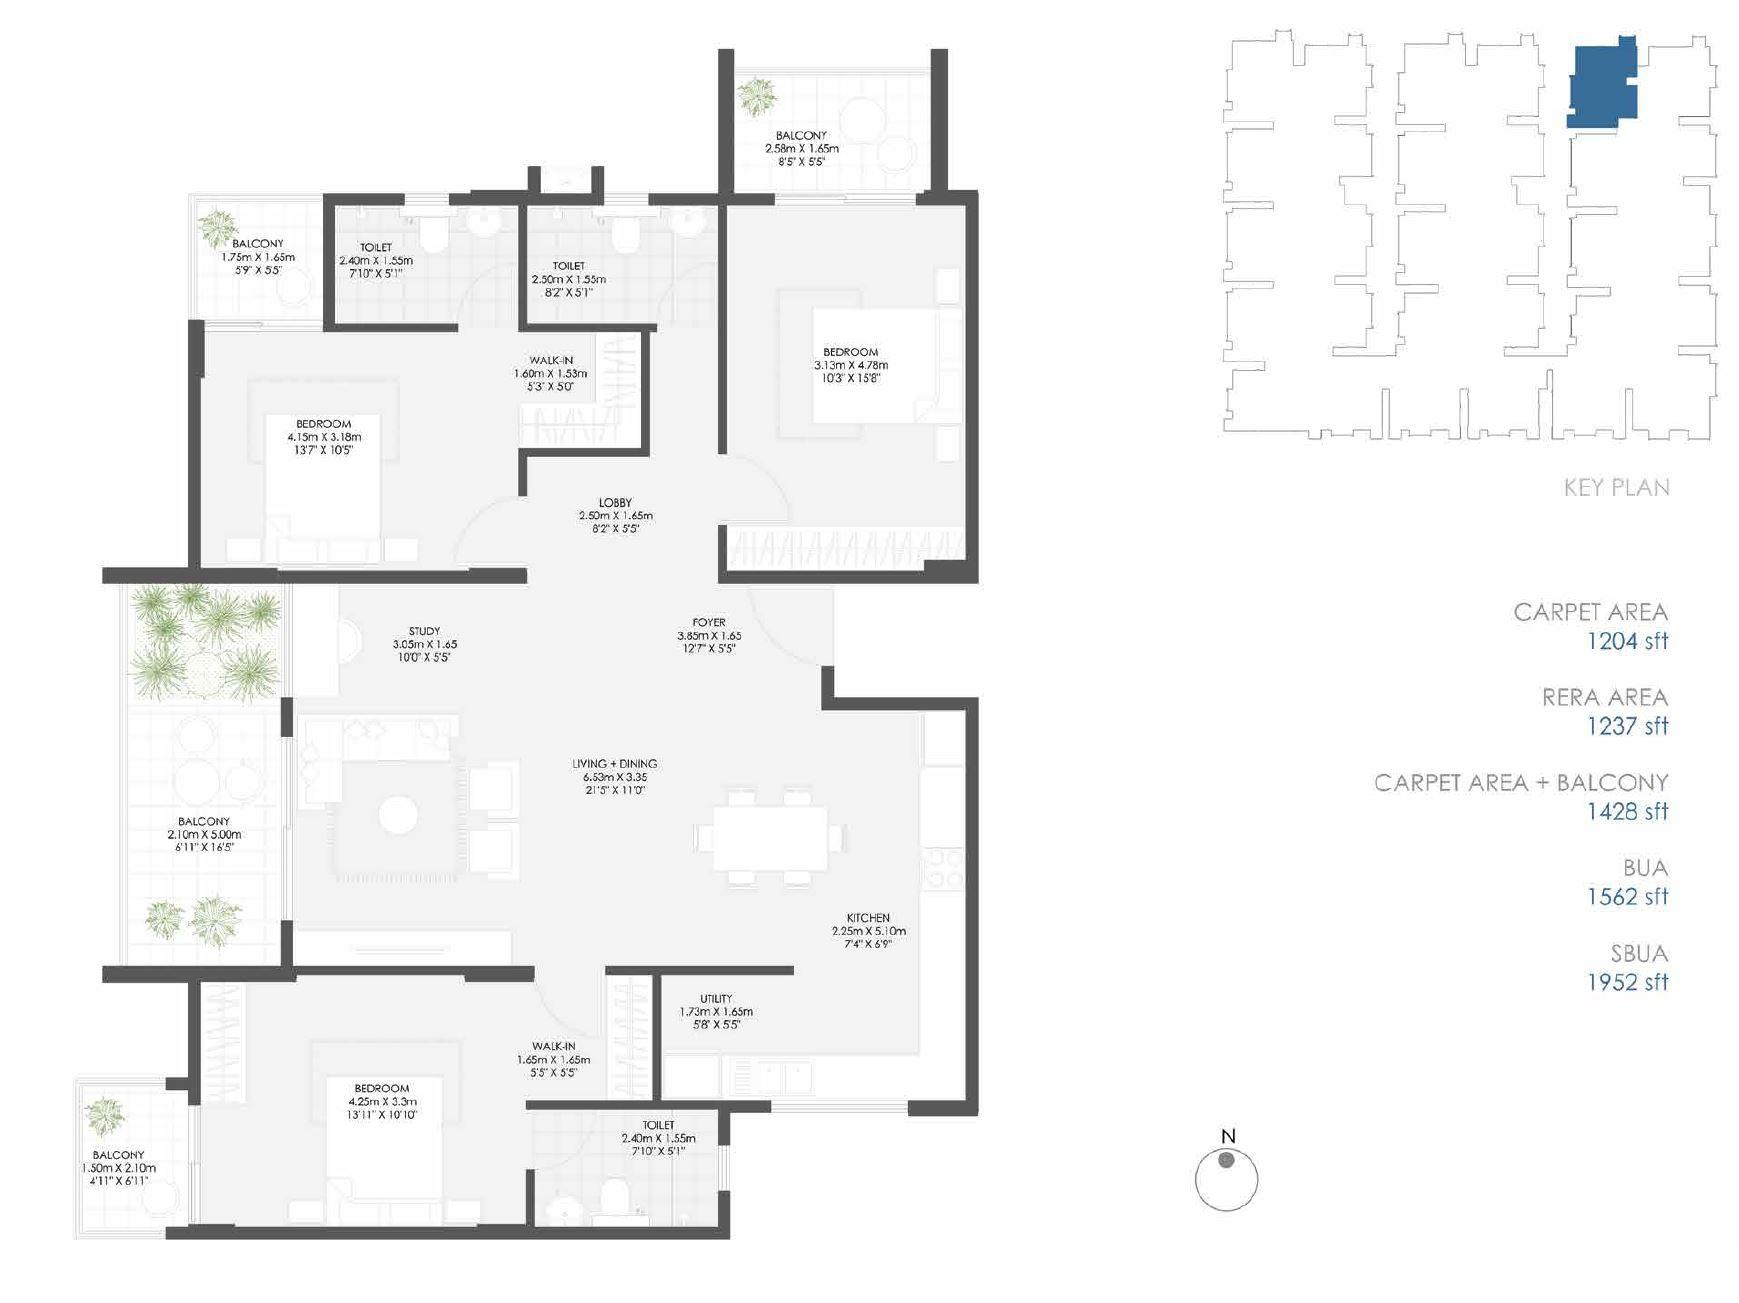Balcony: (126, 580, 280, 969), (733, 71, 939, 198), (192, 197, 328, 324), (82, 1085, 198, 1229)
Bed: (263, 417, 380, 569), (814, 308, 963, 424), (328, 1074, 443, 1224)
Bedroom: (727, 203, 969, 572), (194, 979, 523, 1226), (198, 331, 514, 572)
Dining Room: (629, 714, 854, 955)
Dining table: (681, 777, 854, 891)
Foyer: (521, 584, 826, 699), (527, 459, 717, 573)
Kitchen: (803, 710, 963, 1103)
Living Room: (293, 710, 618, 959)
Sofa: (301, 714, 464, 761), (300, 719, 346, 805), (467, 764, 524, 817), (465, 827, 523, 879)
Wardrobe: (728, 530, 966, 571), (605, 977, 655, 1102), (591, 333, 644, 449), (516, 404, 642, 450), (200, 983, 244, 1111)
commode: (410, 211, 454, 253), (592, 1177, 632, 1215), (612, 218, 642, 255)
door: (739, 587, 835, 669), (706, 443, 792, 519), (452, 500, 534, 573), (534, 975, 603, 1046), (653, 257, 722, 327), (275, 727, 300, 918), (457, 263, 516, 326), (182, 1109, 213, 1222), (201, 308, 323, 337), (773, 192, 919, 212)
fridge: (919, 712, 963, 764)
kitchen-slab: (919, 768, 967, 1103), (721, 1053, 965, 1102)
sink: (722, 1055, 810, 1100), (467, 203, 501, 241), (672, 207, 709, 235), (549, 1196, 584, 1225)
stove: (919, 839, 965, 899)
study: (289, 584, 517, 704)
toilet: (527, 203, 717, 323), (331, 203, 517, 323), (535, 1109, 721, 1225)
tv: (335, 929, 450, 964)
utility: (659, 975, 809, 1100)
walkin: (516, 975, 649, 1102)
washing-machine: (662, 1051, 720, 1100)
